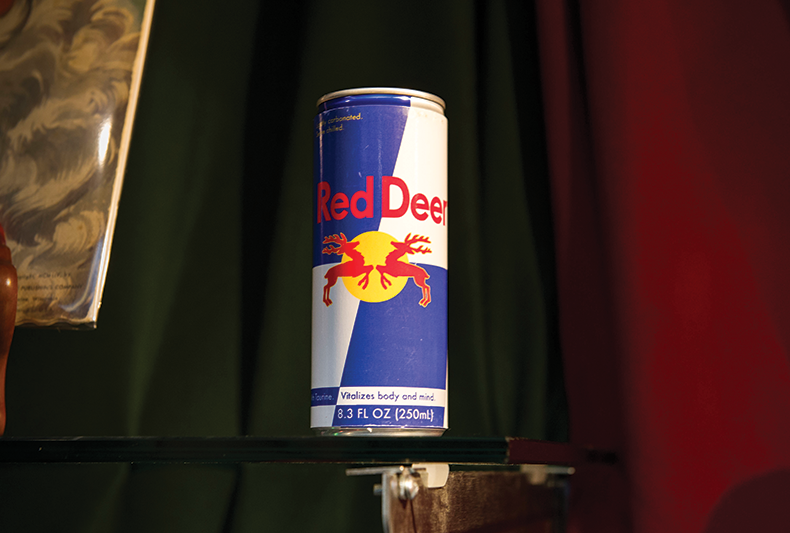redbull: (305, 79, 460, 450)
